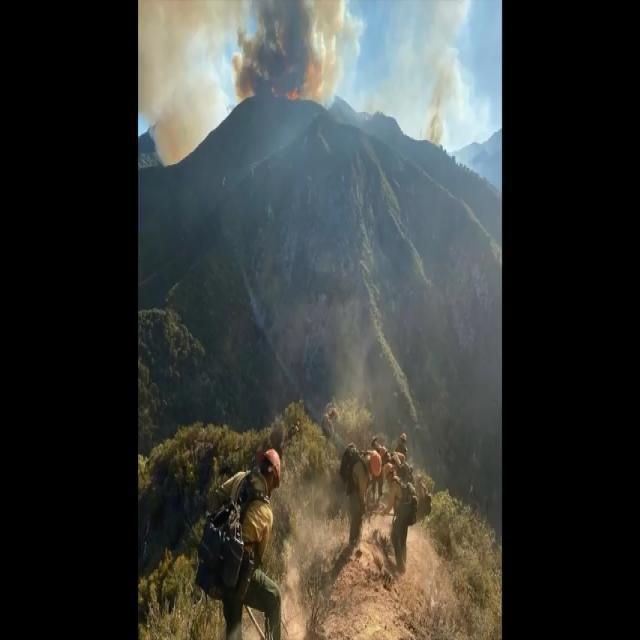Fire: (257, 50, 316, 105)
